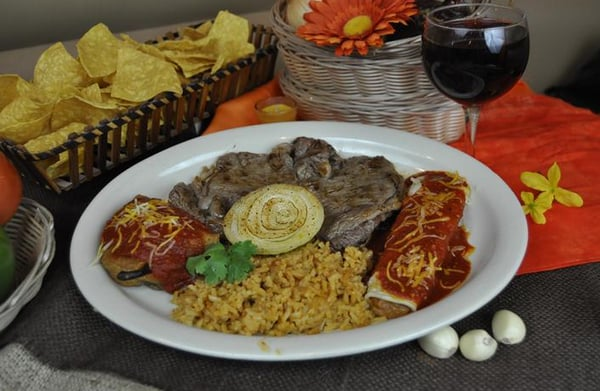sushi: (269, 0, 475, 142), (0, 198, 56, 342)
